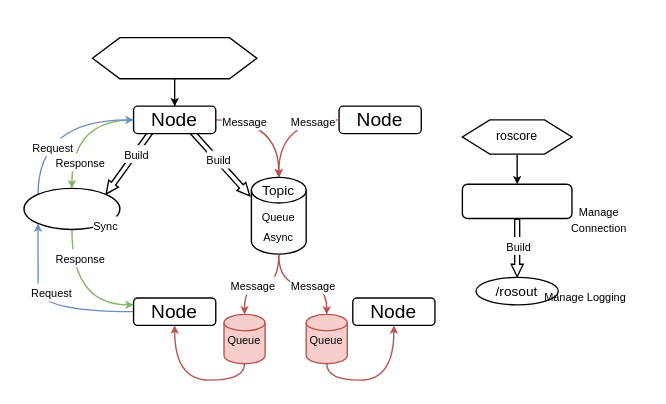
This 666x404 diagram has some shape labels left out. The shapes that lost their labels are listed below. From the top down, each one's box as (x1, y1, x2, y2) in pixels, then its label:
(91, 36, 257, 79): rosrun <pkg_name> <node_name>
(23, 187, 120, 229): Service
(461, 183, 572, 219): Master
